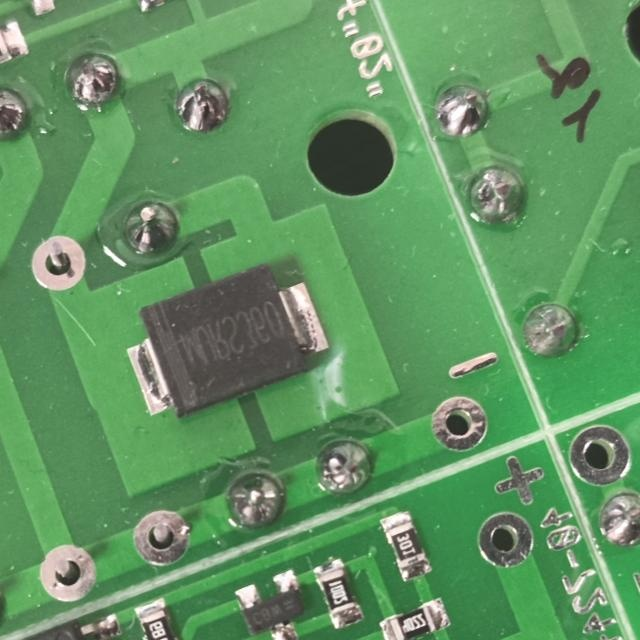chip-resistor: (305, 551, 367, 634), (373, 504, 435, 586), (372, 592, 454, 640), (127, 594, 190, 640)
diode: (106, 244, 339, 433)
transistor: (224, 563, 322, 640)
